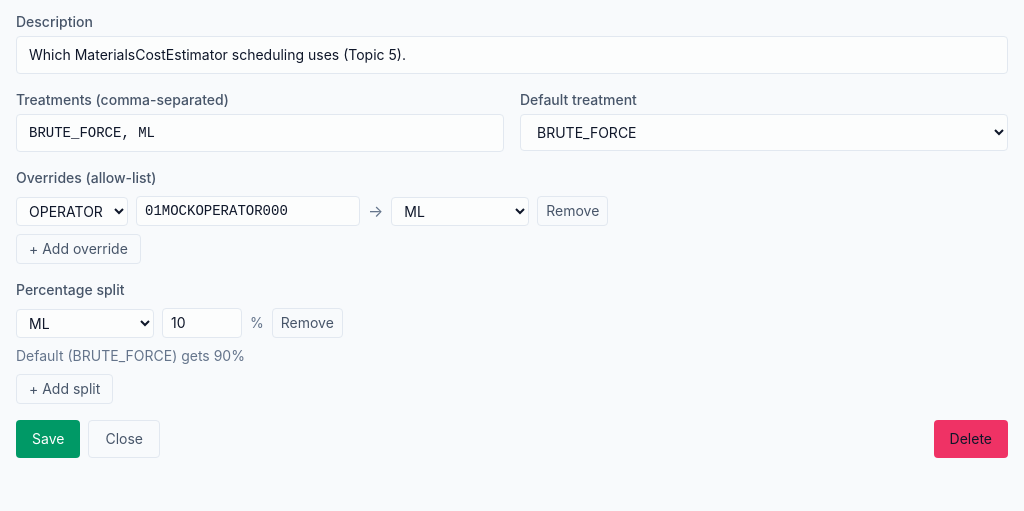
Scenario: FeatureFlagEditor — existing flag › shows validation problems and disables save
The width and height of the screenshot is (1024, 511).
Replace the text in the field labelled "Treatments (comma-separated)" with "ml" at (260, 133), box [16,114,504,152]
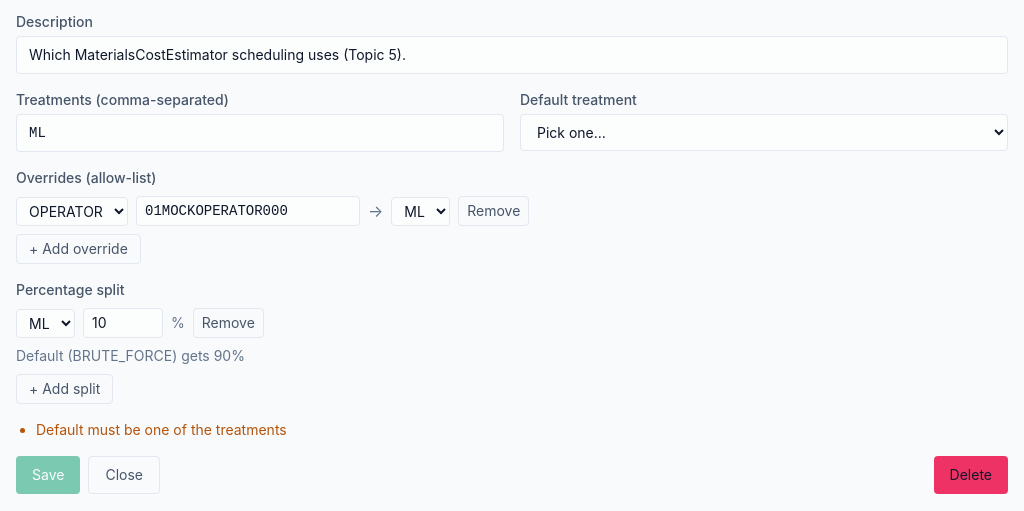
Expected: the list named "COST_MODEL validation problems" reads "Default must be one of the treatments", [36,421,287,438]
Expected: the button "Save" is disabled, [16,456,80,494]
